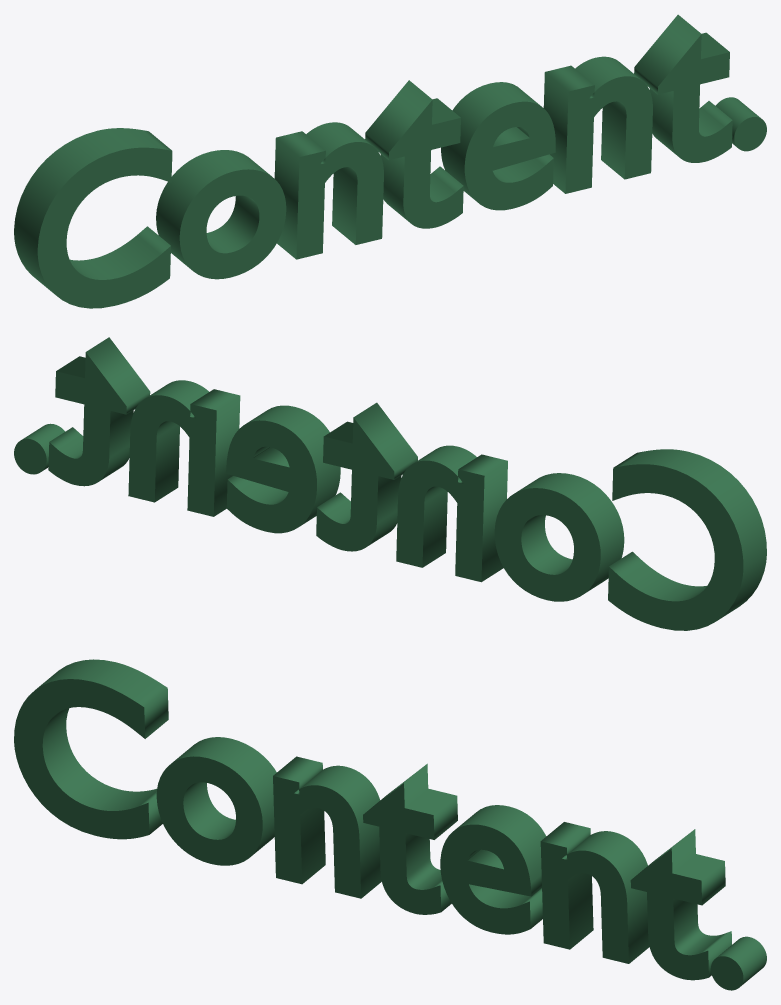
Rendered from content.glb.
3 views of the same model, one above another, from view 1: azimuth 30°, elevation 25°; view 2: azimuth 150°, elevation 25°; view 3: azimuth 330°, elevation 25° (orthographic).
Visible parts, largest first — view 1: Text; view 2: Text; view 3: Text.
Part boxes in pixels (<box>): Text: <box>14,14,766,308</box>; Text: <box>14,337,766,630</box>; Text: <box>14,659,766,990</box>.
Bounding box in the file's own units: 3.57 × 0.7496 × 0.2388.
